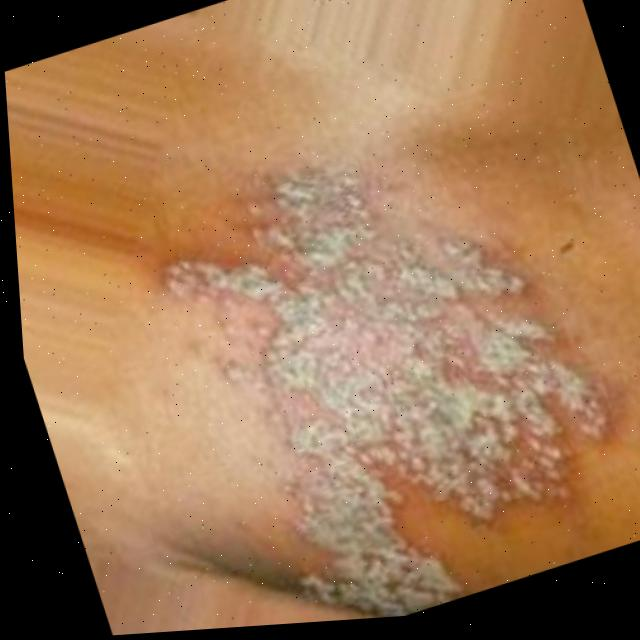Shingles: (127, 77, 640, 632)
